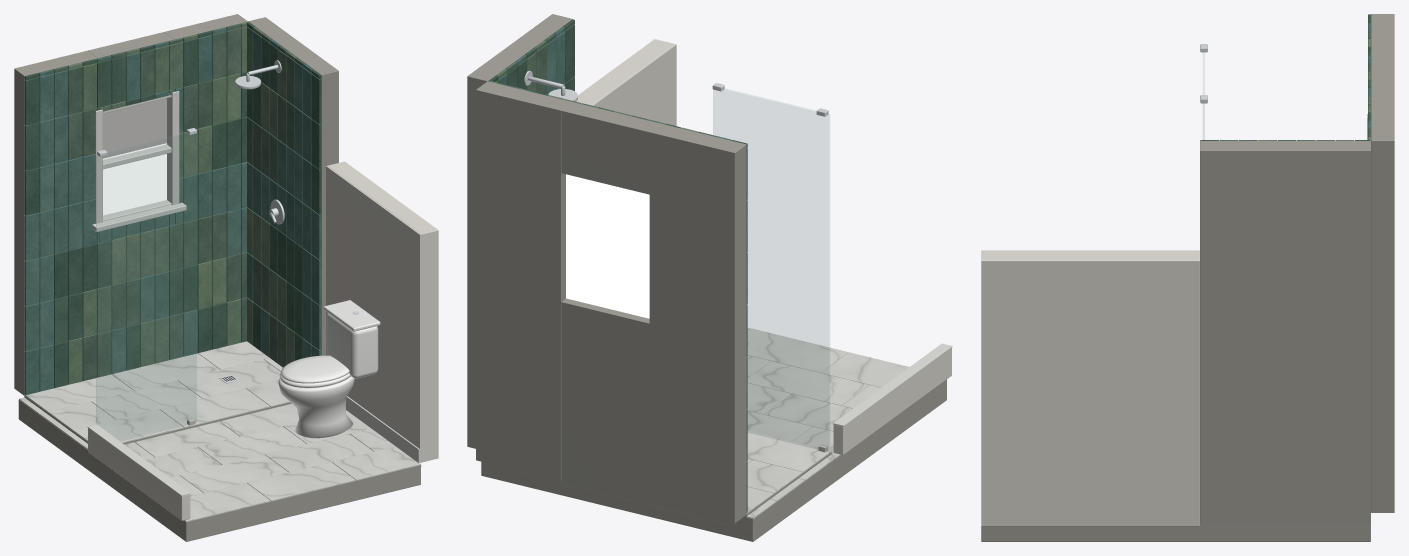
Rendered from walk-in-shower-remodel.glb.
3 renders of one model, left to right at view 1: azimuth 30°, elevation 25°; view 2: azimuth 150°, elevation 25°; view 3: azimuth 270°, elevation 25°, orthographic. The views are drawn at different scales.
Visible parts, largest first — view 1: Frameless screen, Vertically laid green tile · field tile, Room floor · tile, Documented wet-wall approach · wall · trowelled face, White shower pan · tile, Vertically laid green tile · field tile.001, Vertically laid green tile · field tile.002, Vertically laid green tile · field tile.003, Glazed green return · field tile, Room floor · foundation, Vertically laid green tile · wall core, Glazed green return · field tile.001 (+18 smaller); view 2: Vertically laid green tile · wall core, Frameless screen, Room floor · tile, White framed window · frosted glazing, Room floor · foundation, Glazed green return · wall core, Documented wet-wall approach · wall · trowelled face, White shower pan · tile, Sectioned wall · low edge, Documented wet-wall approach · wall · wall core, Sectioned wall cap, Glazed green return · field tile.001 (+2 smaller); view 3: Glazed green return · wall core, Documented wet-wall approach · wall · wall core, Vertically laid green tile · wall core, Room floor · foundation.
Part boxes in pixels (x1=…): Frameless screen: x1=96, y1=133, x2=196, y2=440; Vertically laid green tile · field tile: x1=24, y1=27, x2=246, y2=394; Room floor · tile: x1=19, y1=397, x2=420, y2=521; Documented wet-wall approach · wall · trowelled face: x1=326, y1=166, x2=421, y2=462; White shower pan · tile: x1=24, y1=341, x2=289, y2=442; Vertically laid green tile · field tile.001: x1=24, y1=30, x2=246, y2=388; Vertically laid green tile · field tile.002: x1=68, y1=21, x2=248, y2=384; Vertically laid green tile · field tile.003: x1=53, y1=23, x2=247, y2=380; Glazed green return · field tile: x1=247, y1=31, x2=321, y2=358; Room floor · foundation: x1=18, y1=401, x2=420, y2=541; Vertically laid green tile · wall core: x1=14, y1=14, x2=247, y2=395; Glazed green return · field tile.001: x1=247, y1=22, x2=321, y2=360; Vertically laid green tile · wall core: x1=476, y1=81, x2=746, y2=523; Frameless screen: x1=713, y1=88, x2=829, y2=451; Room floor · tile: x1=746, y1=327, x2=909, y2=518; White framed window · frosted glazing: x1=566, y1=174, x2=649, y2=318; Room floor · foundation: x1=481, y1=379, x2=946, y2=541; Glazed green return · wall core: x1=467, y1=14, x2=572, y2=448; Documented wet-wall approach · wall · trowelled face: x1=591, y1=44, x2=676, y2=125; White shower pan · tile: x1=746, y1=430, x2=831, y2=513; Sectioned wall · low edge: x1=833, y1=348, x2=951, y2=454; Documented wet-wall approach · wall · wall core: x1=576, y1=39, x2=674, y2=105; Sectioned wall cap: x1=833, y1=343, x2=952, y2=426; Glazed green return · field tile.001: x1=488, y1=19, x2=574, y2=90; Glazed green return · wall core: x1=1200, y1=141, x2=1370, y2=522; Documented wet-wall approach · wall · wall core: x1=981, y1=251, x2=1199, y2=526; Vertically laid green tile · wall core: x1=1371, y1=14, x2=1394, y2=512; Room floor · foundation: x1=981, y1=523, x2=1370, y2=541.
Size of the model in its own units: 1.82 by 2.31 by 2.17.
Materials: 16 (5 with a texture image).
